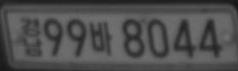0: (146, 17, 169, 58)
4: (172, 17, 197, 58), (198, 18, 223, 58)
8: (121, 17, 145, 57)
9: (65, 17, 87, 57), (43, 17, 64, 56)
경남_V: (18, 17, 43, 56)
바: (88, 20, 113, 55)
